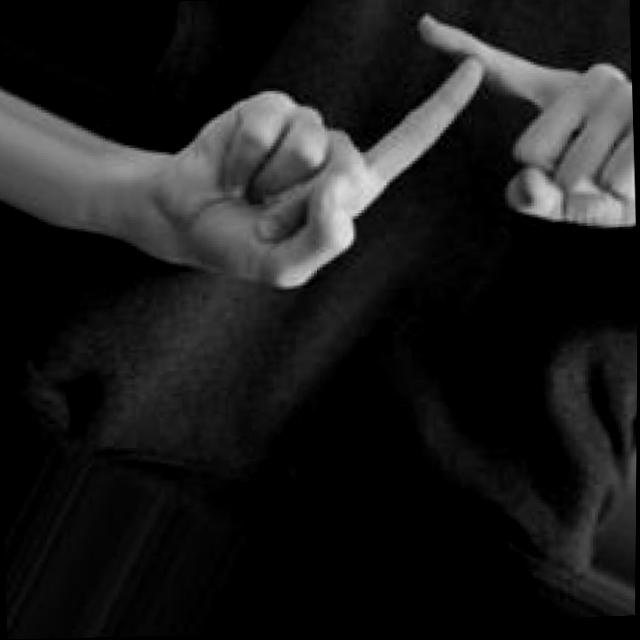T: (144, 0, 639, 297)
